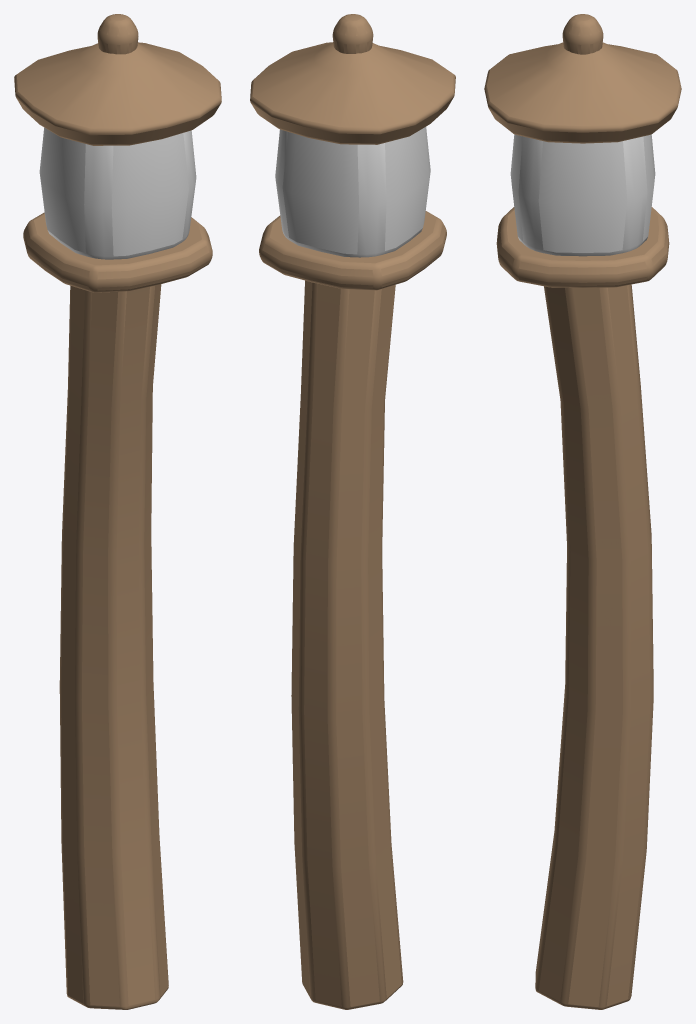
File: prop_lantern_post_2.glb
3 renders of one model, left to right at view 1: azimuth 30°, elevation 25°; view 2: azimuth 150°, elevation 25°; view 3: azimuth 270°, elevation 25°, orthographic.
Parts seen in each view (by area): view 1: prop_lantern_post_2_timber, prop_lantern_post_2_pv_capiz_lantern; view 2: prop_lantern_post_2_timber, prop_lantern_post_2_pv_capiz_lantern; view 3: prop_lantern_post_2_timber, prop_lantern_post_2_pv_capiz_lantern.
Boxes of the visible parts, x1,y1,x2,y2 form: prop_lantern_post_2_timber: (14, 14, 221, 1009); prop_lantern_post_2_pv_capiz_lantern: (39, 127, 196, 259); prop_lantern_post_2_timber: (250, 14, 455, 1009); prop_lantern_post_2_pv_capiz_lantern: (275, 127, 430, 257); prop_lantern_post_2_timber: (484, 14, 681, 1009); prop_lantern_post_2_pv_capiz_lantern: (510, 134, 655, 256).
Bounding box in the file's own units: 0.453 × 2.47 × 0.453.
